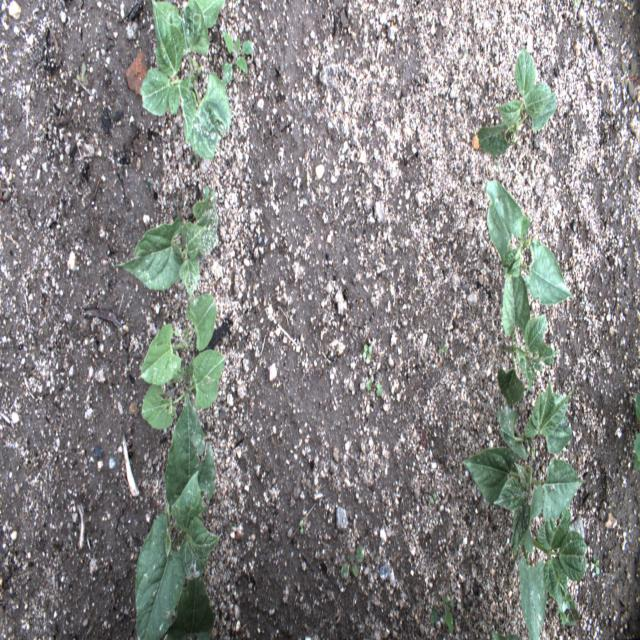crop: (462, 384, 588, 636), (483, 183, 576, 413), (138, 292, 230, 507), (134, 439, 223, 635), (141, 0, 234, 162), (115, 192, 218, 297), (477, 45, 564, 169), (168, 565, 214, 636), (632, 430, 640, 474), (490, 631, 520, 640), (633, 392, 640, 424)
weed: (422, 594, 454, 635), (222, 30, 253, 72), (338, 544, 362, 580), (620, 61, 636, 103), (364, 369, 383, 398), (168, 197, 186, 217), (76, 61, 87, 85), (589, 552, 600, 575), (362, 342, 371, 363), (298, 519, 305, 537), (429, 492, 438, 506), (437, 343, 448, 354)
